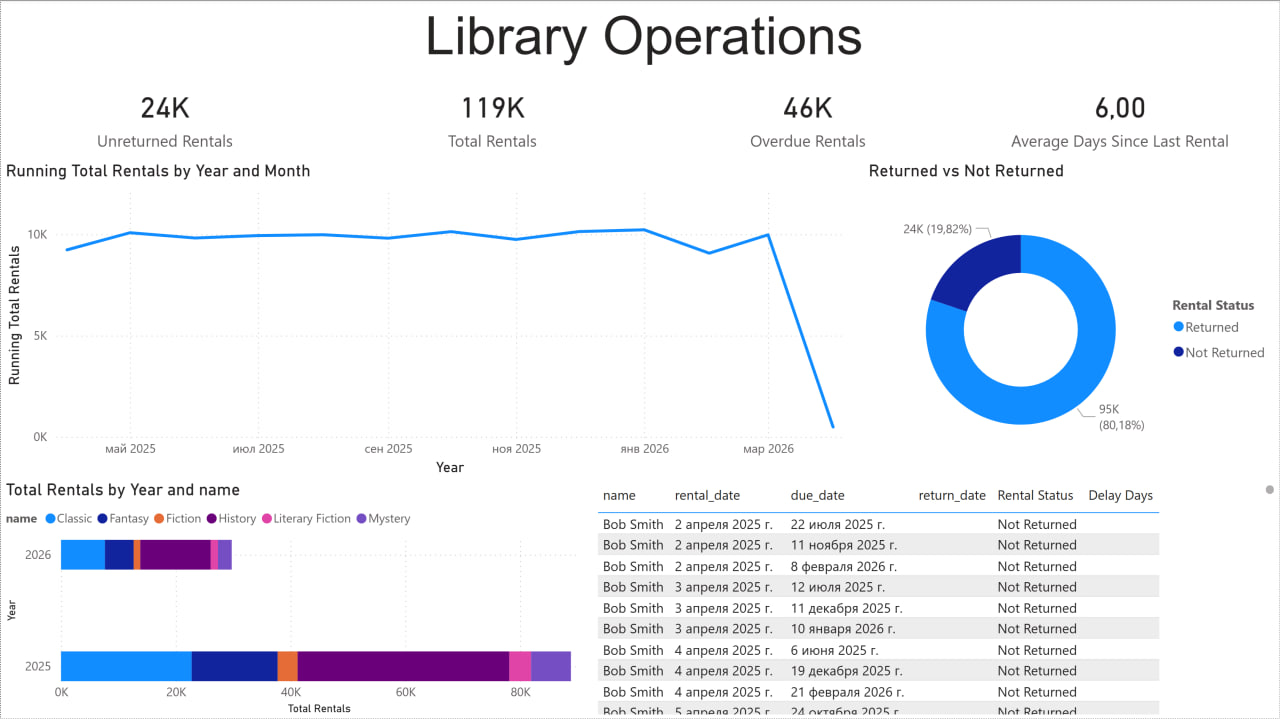

This screenshot's page, from the dashboard's own definition file:
{"tool":"powerbi","page":{"name":"Operations","canvas":[1280,720],"ordinal":2},"visuals":[{"type":"textbox","box":[8,0,1272,72],"z":0},{"type":"card","fields":{"Values":["public rentals.Total Rentals"]},"box":[328,72,328,88],"z":1000},{"type":"card","fields":{"Values":["public rentals.Unreturned Rentals"]},"box":[0,72,328,88],"z":2000},{"type":"card","fields":{"Values":["public rentals.Overdue Rentals1"]},"box":[656,72,304,88],"z":3000},{"type":"card","fields":{"Values":["public rentals.Average Days Since Last Rental"]},"box":[960,72,320,88],"z":4000},{"type":"lineChart","fields":{"Y":["public rentals.Running Total Rentals"],"Category":["public rentals.rental_date.Variation.Date Hierarchy.Year","public rentals.rental_date.Variation.Date Hierarchy.Month"]},"box":[0,160,864,320],"z":5000},{"type":"donutChart","title":"Returned vs Not Returned","fields":{"Category":["public rentals.Rental Status"],"Y":["public rentals.Total Rentals"]},"box":[864,160,416,320],"z":6000},{"type":"barChart","fields":{"Category":["public rentals.rental_date.Variation.Date Hierarchy.Year","public rentals.rental_date.Variation.Date Hierarchy.Month"],"Series":["public categories.name"],"Y":["public rentals.Total Rentals"]},"box":[0,480,592,240],"z":7000},{"type":"tableEx","fields":{"Values":["public members.name","public rentals.rental_date","public rentals.due_date","public rentals.return_date","public rentals.Rental Status","public rentals.Delay Days"]},"box":[592,480,688,240],"z":8000}]}

Visuals, with their boxes in screenshot pixels (x1, y1, x2, y2), scaled from the page's 1280x720 canvas onto the 1280x719 screenshot:
textbox: (8, 0, 1279, 72)
card - public rentals.Total Rentals: (328, 72, 656, 160)
card - public rentals.Unreturned Rentals: (0, 72, 328, 160)
card - public rentals.Overdue Rentals1: (656, 72, 960, 160)
card - public rentals.Average Days Since Last Rental: (960, 72, 1279, 160)
lineChart - public rentals.Running Total Rentals x public rentals.rental_date.Variation.Date Hierarchy.Year: (0, 160, 864, 479)
"Returned vs Not Returned" donutChart: (864, 160, 1279, 479)
barChart - public rentals.rental_date.Variation.Date Hierarchy.Year x public rentals.rental_date.Variation.Date Hierarchy.Month: (0, 479, 592, 718)
tableEx - public members.name x public rentals.rental_date: (592, 479, 1279, 718)
